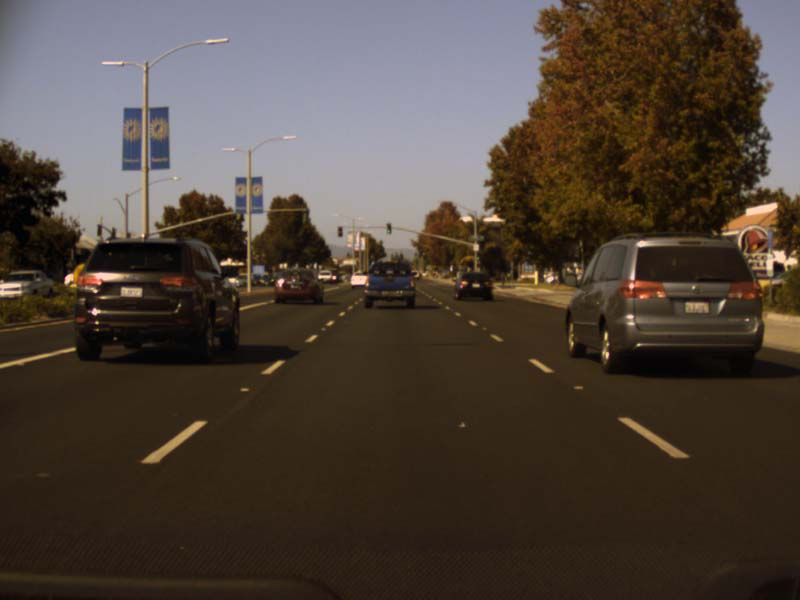Green: (385, 222, 393, 235), (476, 253, 481, 262)
Yellow: (337, 225, 344, 237)
